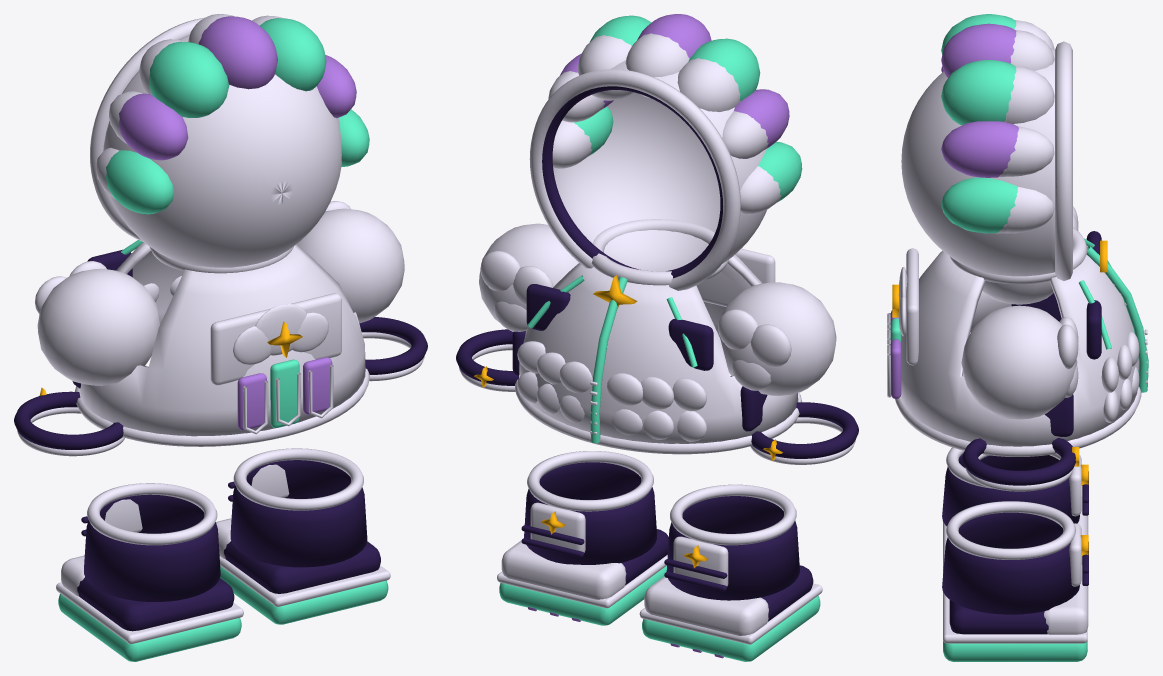
File: PrismCloud_Outfit.glb
3 renders of one model, left to right at view 1: azimuth 30°, elevation 25°; view 2: azimuth 150°, elevation 25°; view 3: azimuth 270°, elevation 25°, orthographic. The views are drawn at different scales.
Visible parts, largest first — view 1: PC_Head, PC_UpperTorso, PC_RightLowerLeg, PC_LeftLowerLeg, PC_LeftUpperArm, PC_LeftFoot, PC_RightFoot, PC_RightUpperArm, PC_LeftLowerArm, PC_RightLowerArm; view 2: PC_Head, PC_UpperTorso, PC_LeftLowerLeg, PC_RightLowerLeg, PC_LeftUpperArm, PC_LeftFoot, PC_RightFoot, PC_RightUpperArm, PC_LeftLowerArm, PC_RightLowerArm; view 3: PC_Head, PC_UpperTorso, PC_RightLowerLeg, PC_RightUpperArm, PC_RightFoot, PC_LeftLowerLeg, PC_RightLowerArm, PC_LeftUpperArm.
Boxes of the visible parts, x1=… form: PC_Head: x1=90, y1=14, x2=369, y2=267; PC_UpperTorso: x1=72, y1=240, x2=369, y2=446; PC_RightLowerLeg: x1=228, y1=448, x2=367, y2=567; PC_LeftLowerLeg: x1=81, y1=483, x2=220, y2=601; PC_LeftUpperArm: x1=35, y1=261, x2=160, y2=385; PC_LeftFoot: x1=56, y1=555, x2=243, y2=661; PC_RightFoot: x1=216, y1=518, x2=390, y2=624; PC_RightUpperArm: x1=297, y1=201, x2=404, y2=323; PC_LeftLowerArm: x1=14, y1=387, x2=124, y2=456; PC_RightLowerArm: x1=359, y1=317, x2=427, y2=381; PC_Head: x1=529, y1=14, x2=802, y2=290; PC_UpperTorso: x1=512, y1=219, x2=802, y2=454; PC_LeftLowerLeg: x1=664, y1=484, x2=799, y2=600; PC_RightLowerLeg: x1=521, y1=451, x2=656, y2=564; PC_LeftUpperArm: x1=717, y1=282, x2=836, y2=395; PC_LeftFoot: x1=639, y1=565, x2=822, y2=661; PC_RightFoot: x1=497, y1=529, x2=668, y2=625; PC_RightUpperArm: x1=479, y1=223, x2=578, y2=331; PC_LeftLowerArm: x1=750, y1=402, x2=858, y2=464; PC_RightLowerArm: x1=456, y1=329, x2=518, y2=391; PC_Head: x1=901, y1=14, x2=1072, y2=280; PC_UpperTorso: x1=887, y1=227, x2=1148, y2=456; PC_RightLowerLeg: x1=942, y1=501, x2=1088, y2=614; PC_RightUpperArm: x1=961, y1=305, x2=1078, y2=419; PC_RightFoot: x1=943, y1=565, x2=1088, y2=661; PC_LeftLowerLeg: x1=942, y1=447, x2=1088, y2=526; PC_RightLowerArm: x1=962, y1=438, x2=1079, y2=491; PC_LeftUpperArm: x1=982, y1=206, x2=1078, y2=304.
Size of the model in its own units: 4.14 by 5.94 by 2.43.
Materials: 1 (1 with a texture image).
